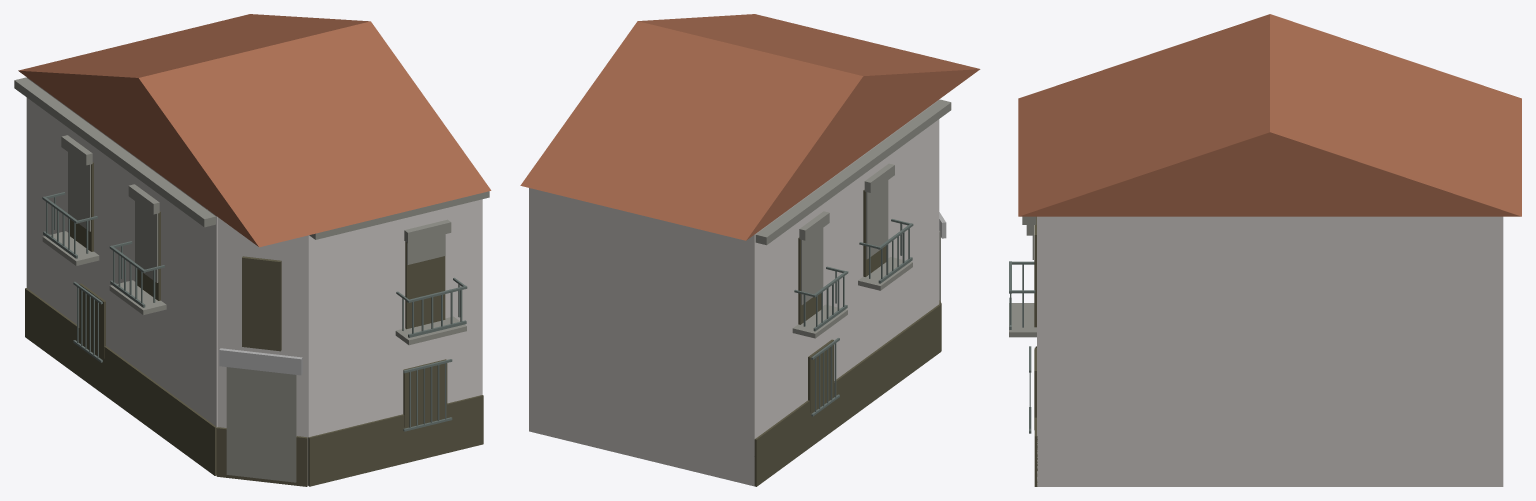
File: SM_Esquina_v2_BajoChaflan_LOD0.fbx
The picture shows the model from 3 angles, left to right: view 1: azimuth 30°, elevation 25°; view 2: azimuth 150°, elevation 25°; view 3: azimuth 270°, elevation 25°; orthographic projection. The views are drawn at different scales.
Visible parts, largest first — view 1: SM_pueblo_valenciano_v2_LOD0; view 2: SM_pueblo_valenciano_v2_LOD0; view 3: SM_pueblo_valenciano_v2_LOD0.
Part boxes in pixels (left/top/right/bottom): SM_pueblo_valenciano_v2_LOD0: left=14, top=14, right=491, bottom=486; SM_pueblo_valenciano_v2_LOD0: left=520, top=14, right=980, bottom=486; SM_pueblo_valenciano_v2_LOD0: left=1009, top=14, right=1521, bottom=486.
Size of the model in its own units: 6.6 by 8.4 by 11.
